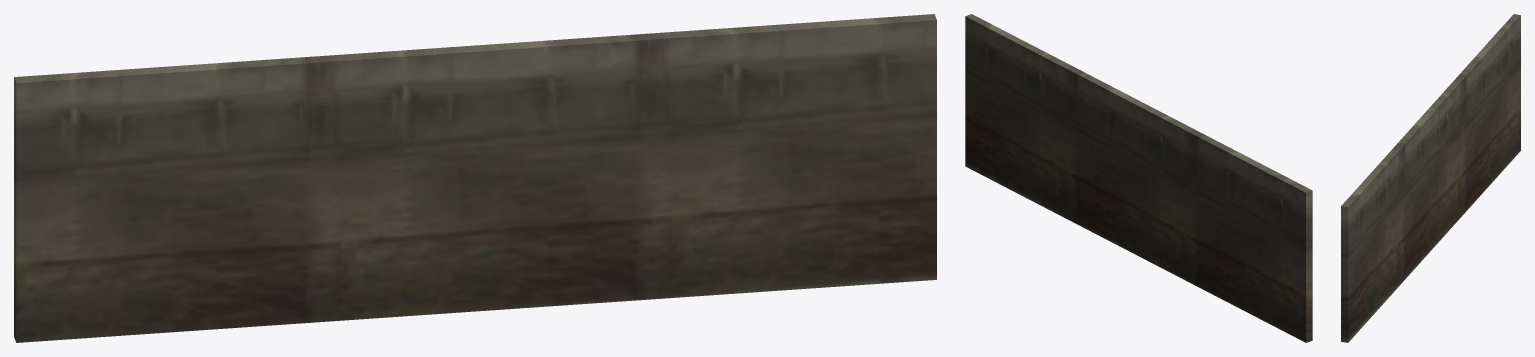
3 views of the same model, side by side, from view 1: azimuth 30°, elevation 25°; view 2: azimuth 150°, elevation 25°; view 3: azimuth 270°, elevation 25° (orthographic). The views are drawn at different scales.
Parts seen in each view (by area): view 1: H1_F1_W6; view 2: H1_F1_W6; view 3: H1_F1_W6.
Part boxes in pixels (x1=…): H1_F1_W6: x1=14, y1=14, x2=936, y2=342; H1_F1_W6: x1=965, y1=14, x2=1312, y2=342; H1_F1_W6: x1=1341, y1=14, x2=1520, y2=342.
Bounding box in the file's own units: 29.71 × 9.7 × 11.68.
Materials: 1 (1 with a texture image).
